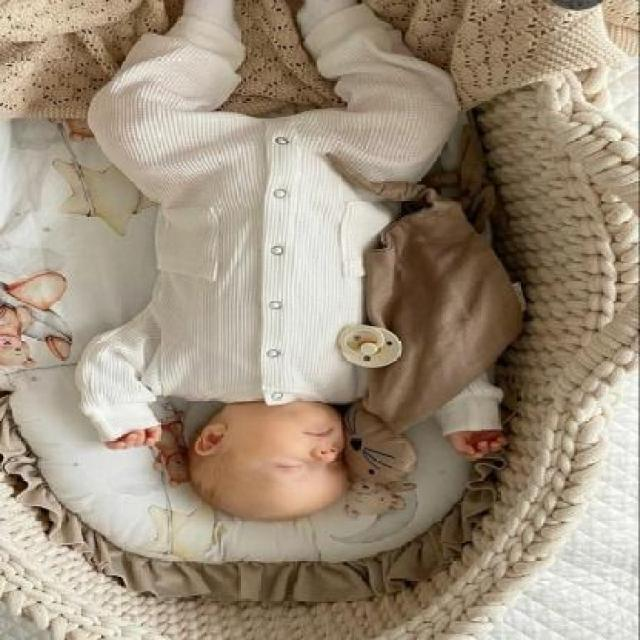baby: (74, 1, 503, 524)
